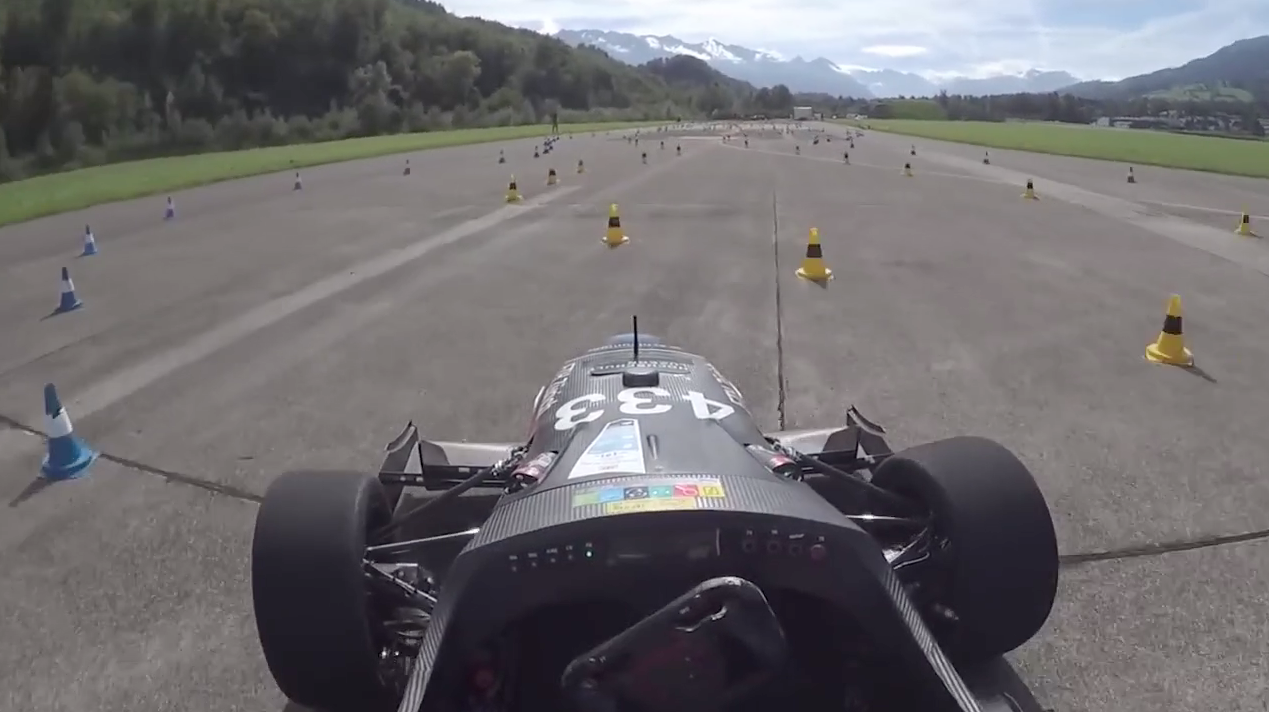lcone: (25, 374, 108, 484), (50, 263, 88, 317), (75, 219, 106, 259)
rcone: (1138, 286, 1201, 372), (787, 220, 838, 290), (597, 198, 633, 249), (501, 172, 526, 204)
